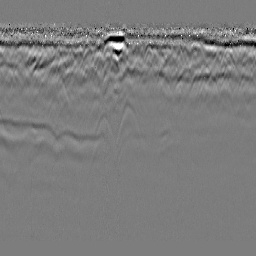cavity: (116, 97, 143, 145)
